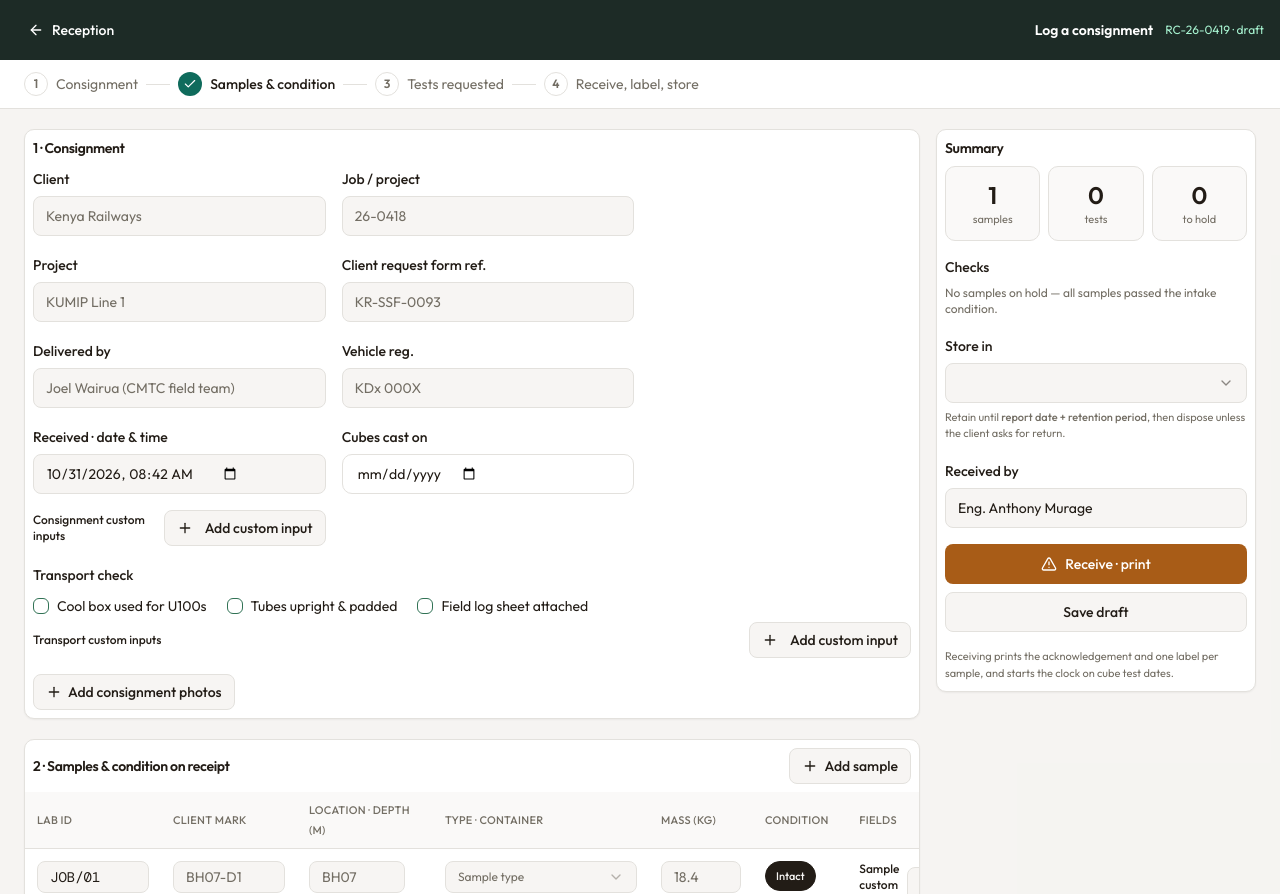
Scenario: Log consignment wizard › refuses to receive a consignment that is missing its client
This screenshot has width=1280, height=894.
Expected: the text "RC-26-0419 · draft" is shown, [1165,22,1264,38]
Click the button "Receive · print": click(1096, 564) [945,544,1247,584]
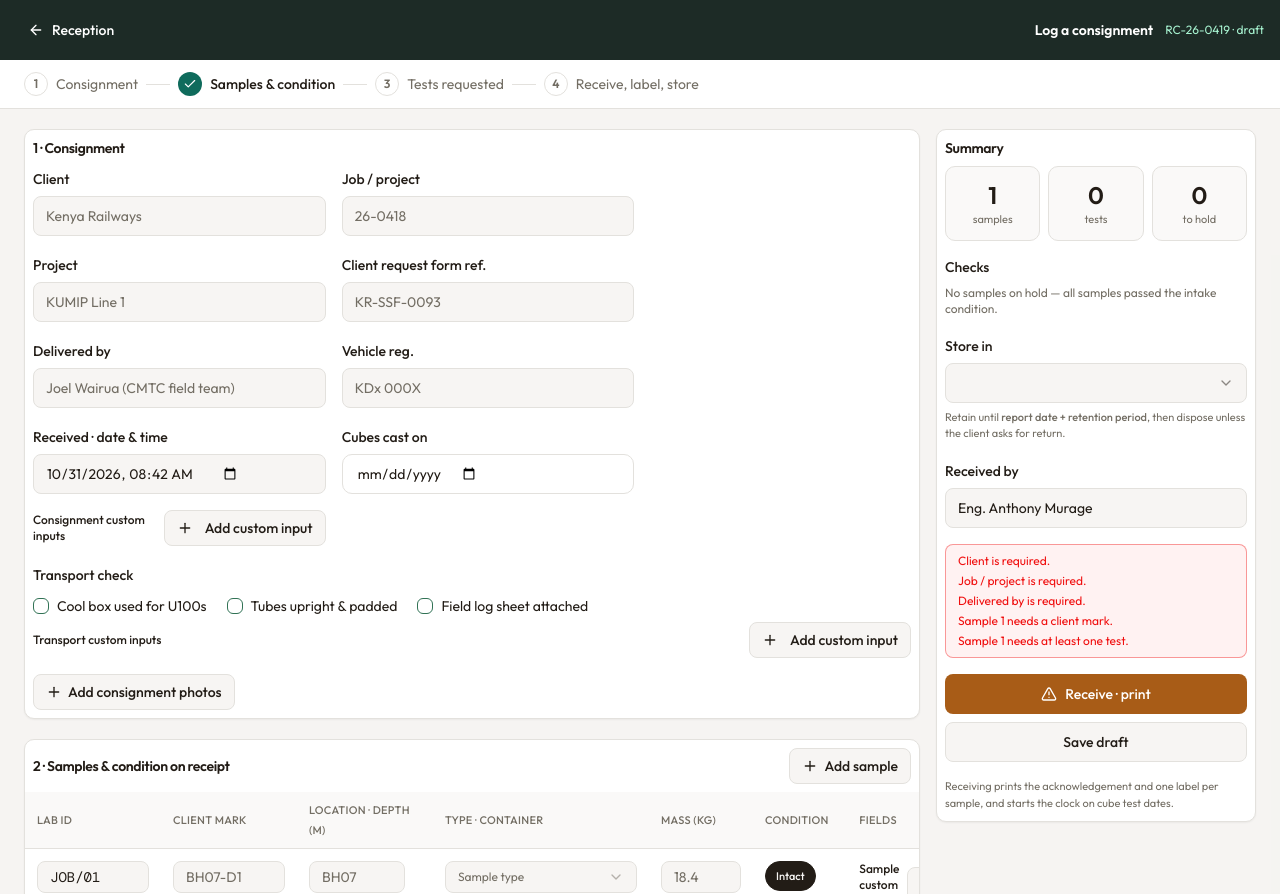
Now the list item "Client is required." is shown, box [958,552,1050,568]
